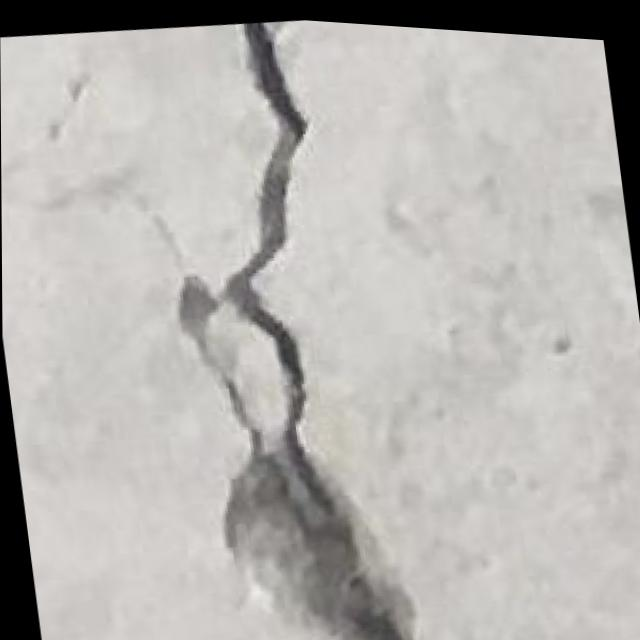Crack: (120, 6, 442, 640)
